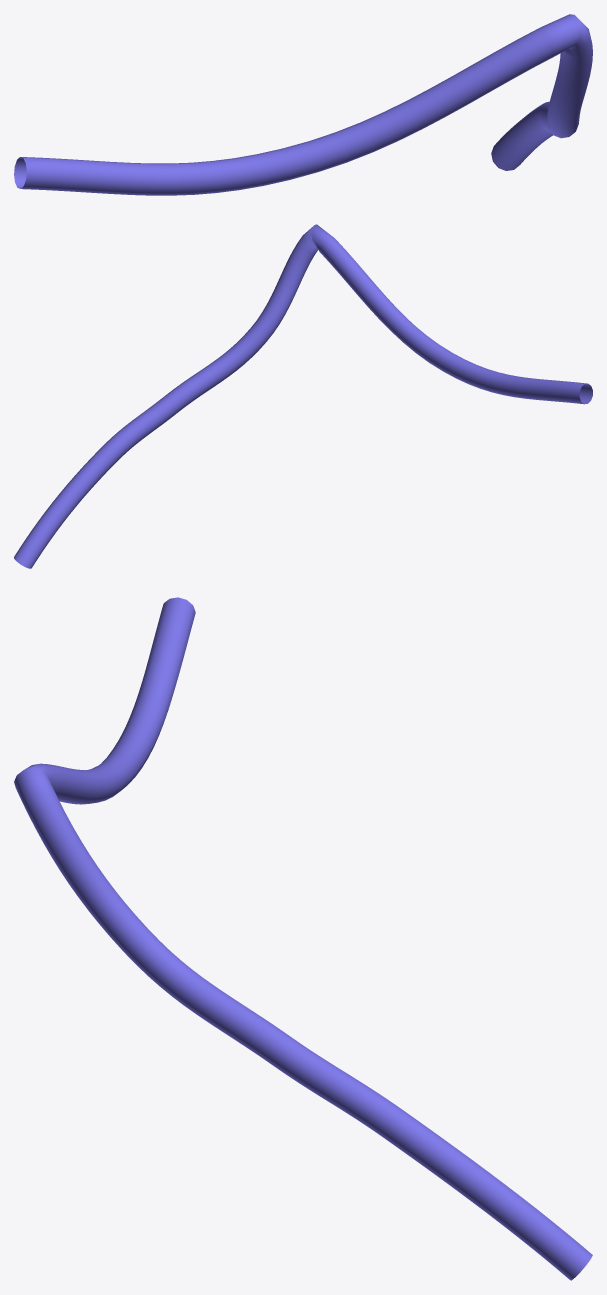
The model's file is Plantar_venous_arch.l_BezierCurve.480.glb.
3 renders of one model, top to bottom at view 1: azimuth 30°, elevation 25°; view 2: azimuth 150°, elevation 25°; view 3: azimuth 270°, elevation 25°, orthographic. The views are drawn at different scales.
Visible parts, largest first — view 1: Plantar_venous_arch.l_BezierCurve.480; view 2: Plantar_venous_arch.l_BezierCurve.480; view 3: Plantar_venous_arch.l_BezierCurve.480.
Part boxes in pixels (x1,y1,x2,y2): Plantar_venous_arch.l_BezierCurve.480: (14,14,592,195); Plantar_venous_arch.l_BezierCurve.480: (14,224,592,568); Plantar_venous_arch.l_BezierCurve.480: (14,597,592,1280).
Size of the model in its own units: 0.0444 by 0.0237 by 0.0301.
